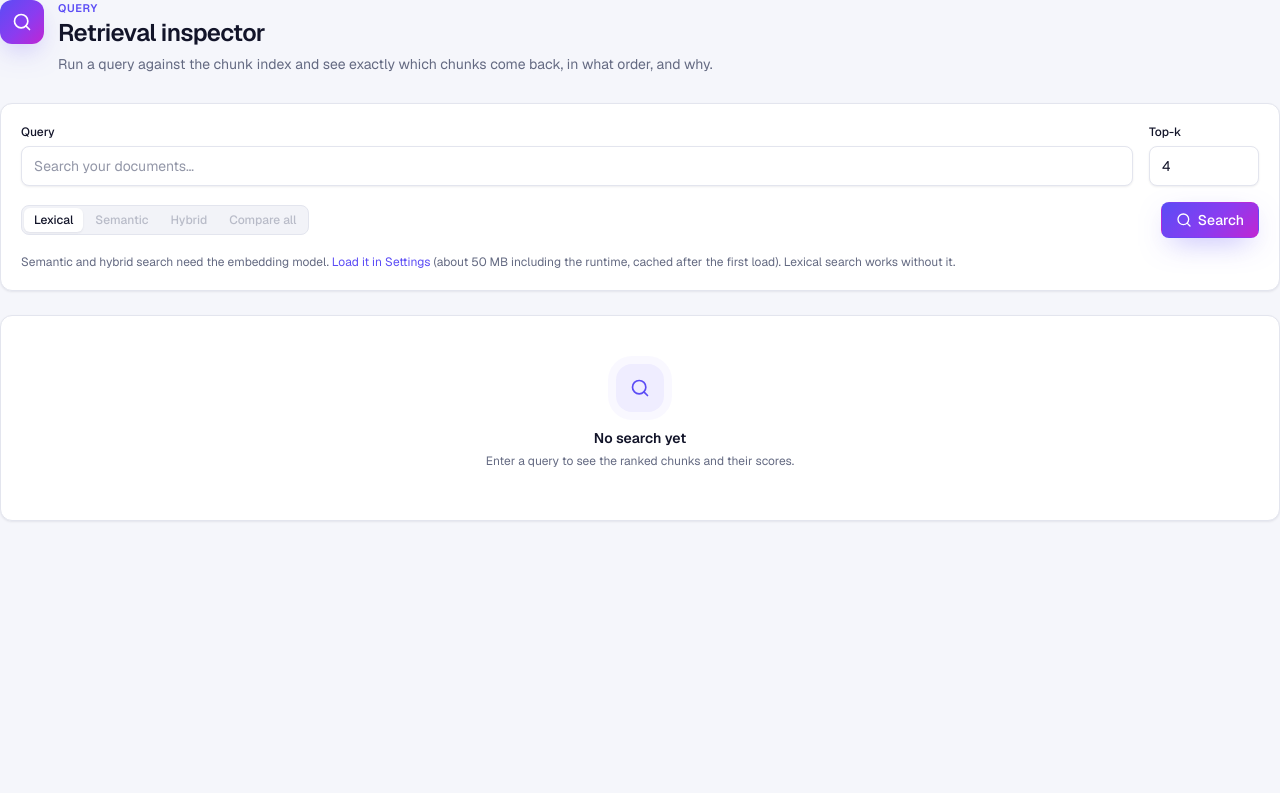
Test case: RetrievalView › runs a lexical search and shows ranked results with BM25 scores
Expected: the heading "Retrieval inspector" is shown, 58,16 -> 265,48
Type "descaled espresso machines" into the field labelled "Query".
click(577, 166); type("descaled espresso machines")  # box 21,146 -> 1133,186
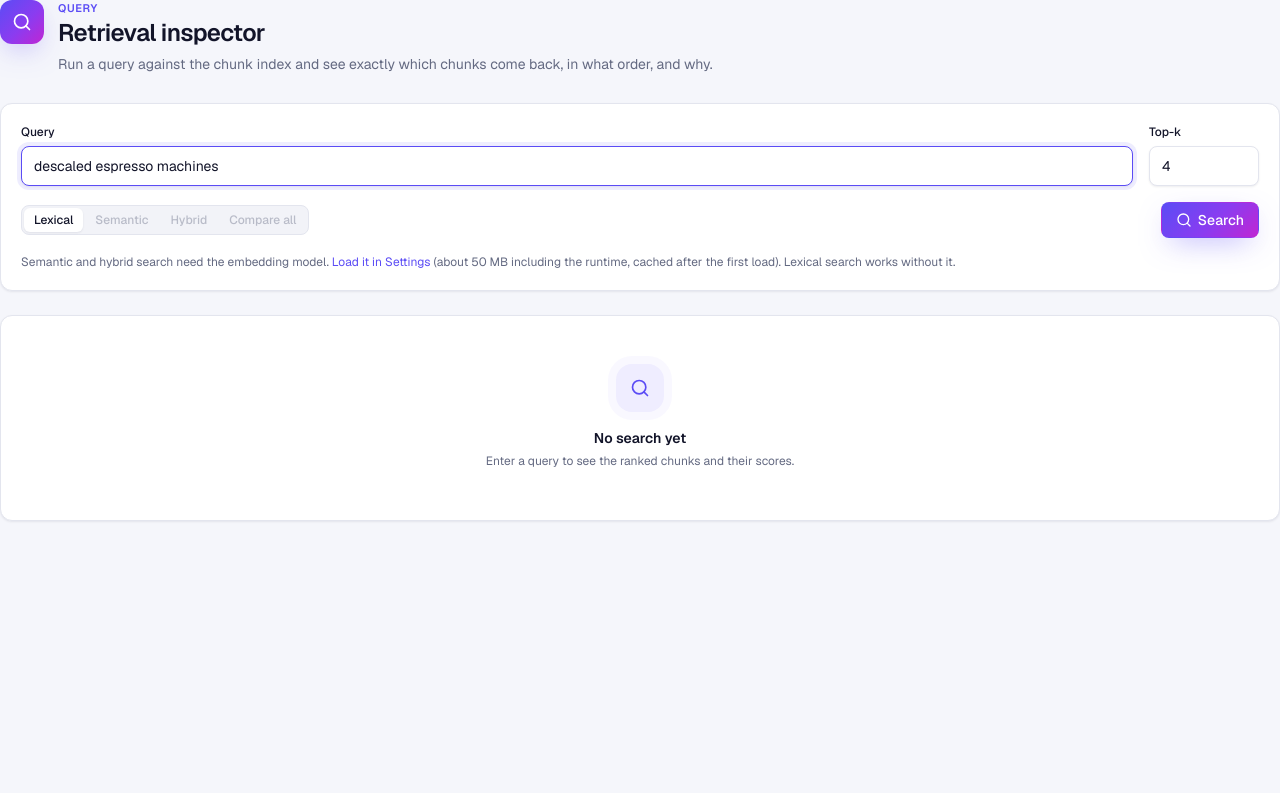
Click the button "Search".
click(1210, 220)  # box 1161,202 -> 1259,238
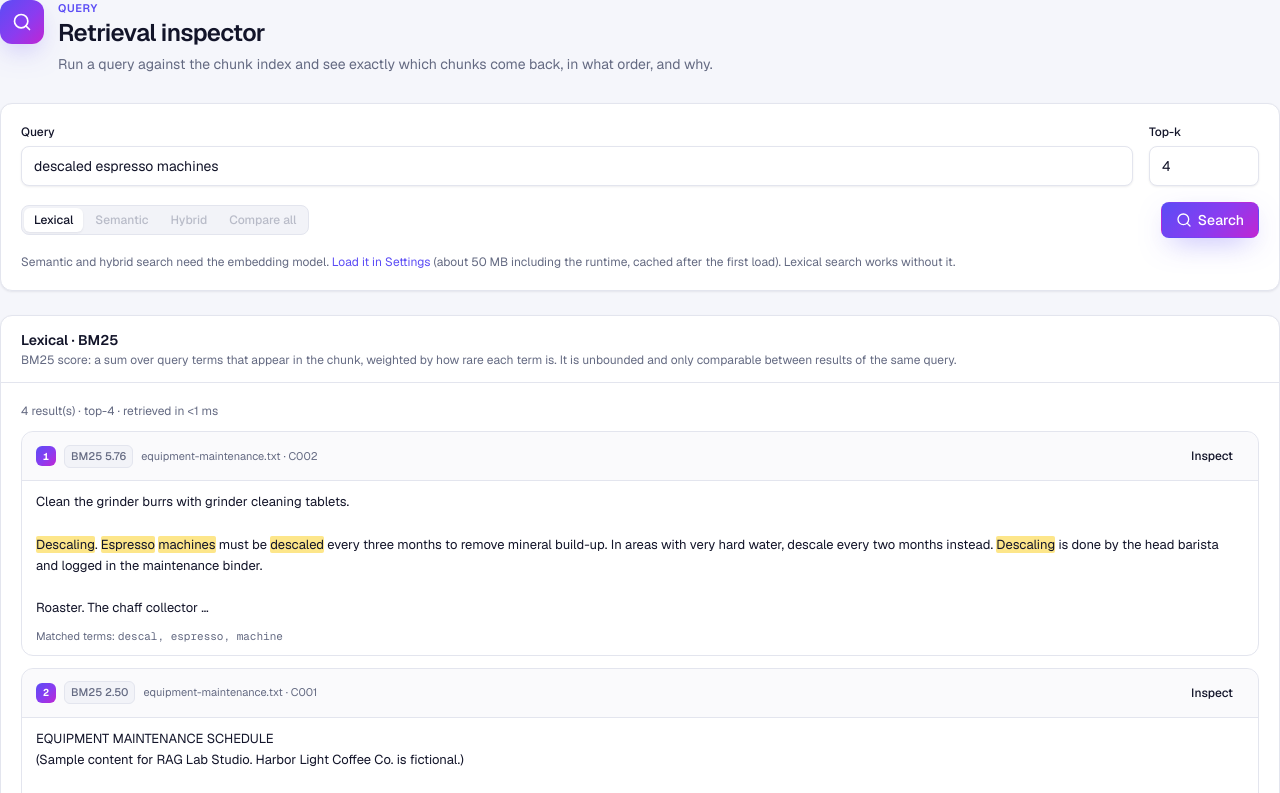
Expected: the text "1" is shown, 36,446 -> 56,466
Expected: the list item with test id "retrieval-result" shows "equipment-maintenance.txt", 141,449 -> 281,463
